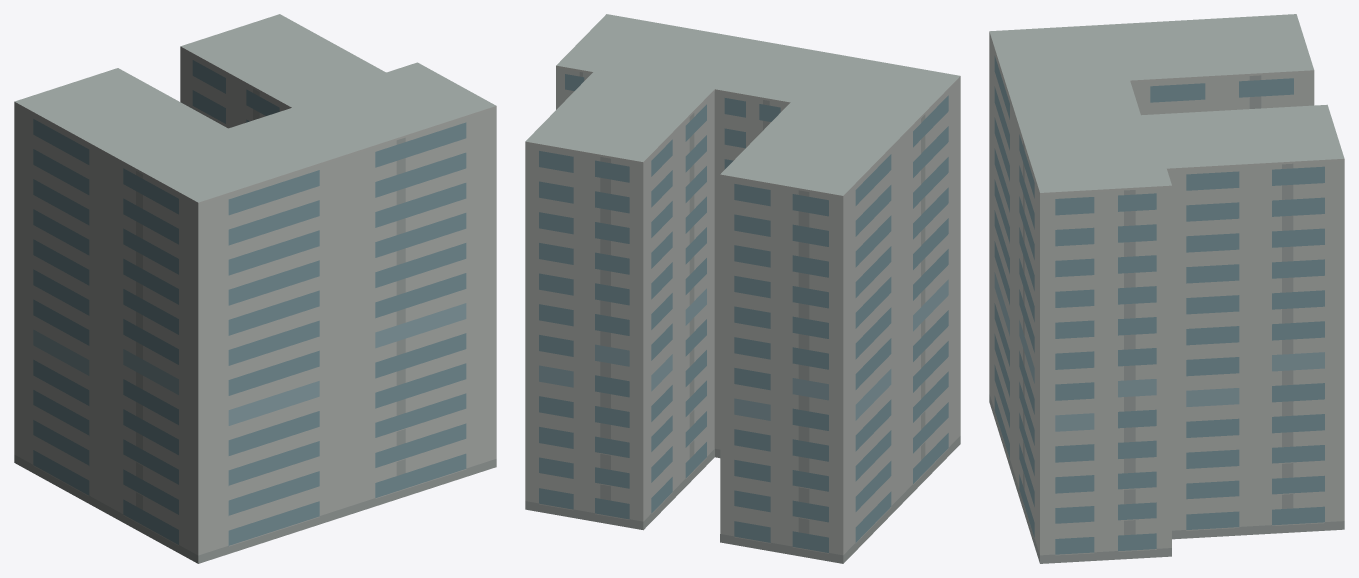
The model's file is residential-61e7928c-704f-43f0-bff6-fd2839a5ce45.glb.
3 views of the same model, side by side, from view 1: azimuth 30°, elevation 25°; view 2: azimuth 150°, elevation 25°; view 3: azimuth 270°, elevation 25° (orthographic). The views are drawn at different scales.
Visible parts, largest first — view 1: residential-61e7928c-704f-43f0-bff6-fd2839a5ce45.tmp; view 2: residential-61e7928c-704f-43f0-bff6-fd2839a5ce45.tmp; view 3: residential-61e7928c-704f-43f0-bff6-fd2839a5ce45.tmp.
Part boxes in pixels (bbox=[...]): residential-61e7928c-704f-43f0-bff6-fd2839a5ce45.tmp: bbox=[14, 14, 496, 563]; residential-61e7928c-704f-43f0-bff6-fd2839a5ce45.tmp: bbox=[525, 14, 960, 563]; residential-61e7928c-704f-43f0-bff6-fd2839a5ce45.tmp: bbox=[989, 14, 1344, 563].
Bounding box in the file's own units: 43.48 × 42 × 36.46.
